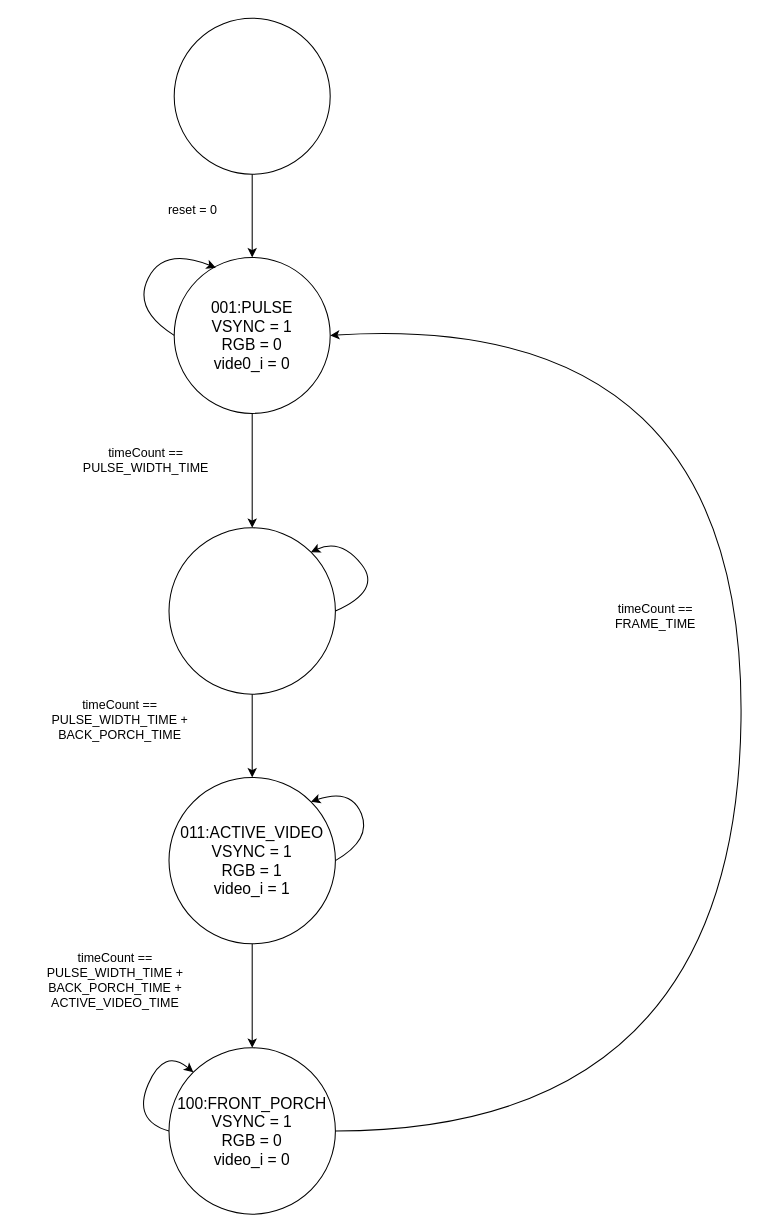
Image size: 759x1232. Some labels were removed from this diagram. The shapes that lost their labels are listed below. From the top down, each one's centre as x and y in pixels, then its label:
At [251,95]: "000:OFF VSYNC = 1 RGB = 0 video_i = 0".
At [251,610]: "010:BACK_PORCH VSYNC = 1 RGB = 0 video_i = 0".
